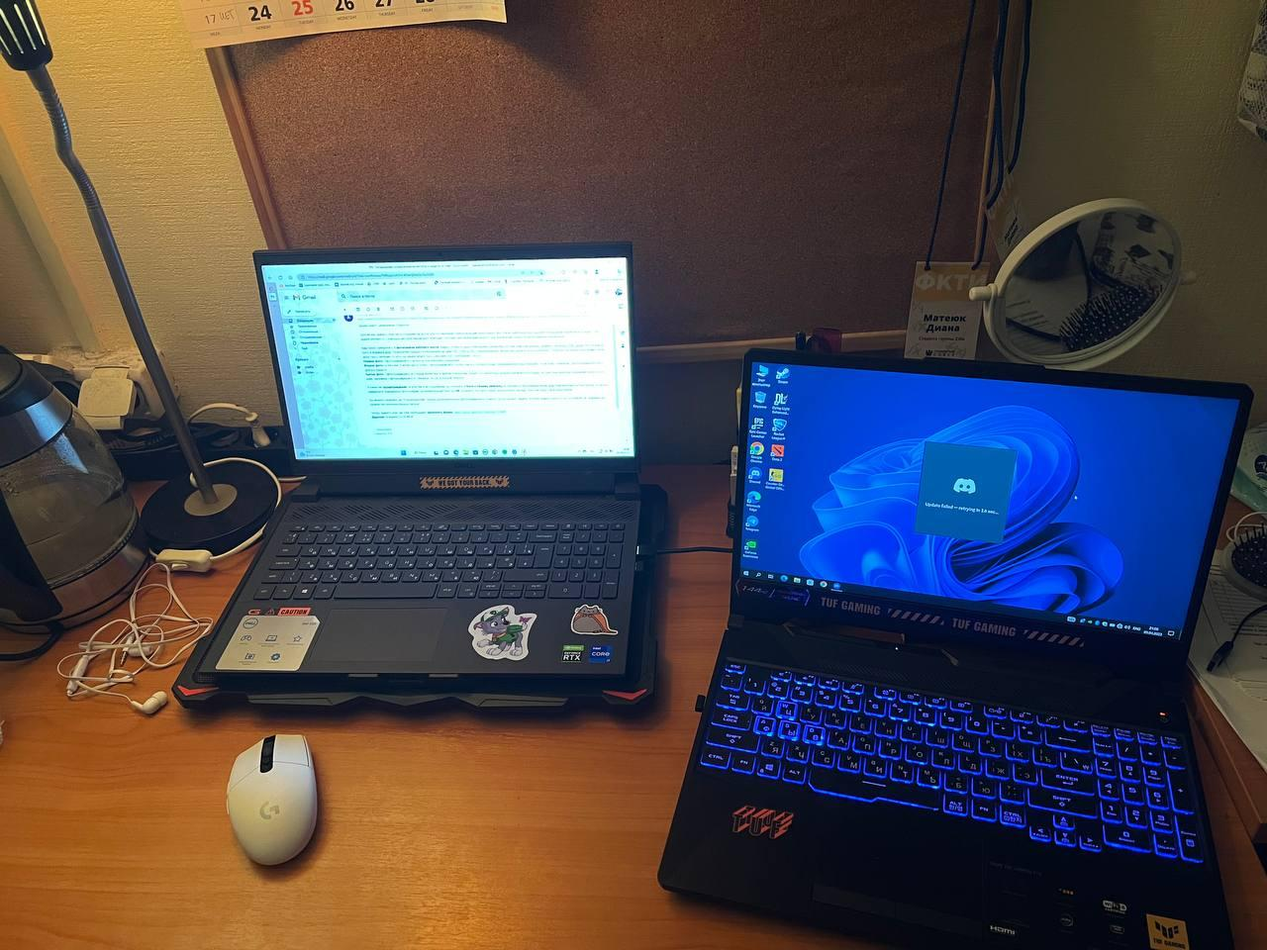monitor: (732, 336, 1254, 673), (249, 233, 645, 496)
